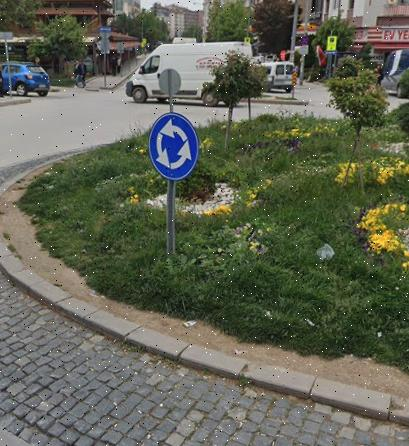crossroads: (149, 113, 198, 180)
